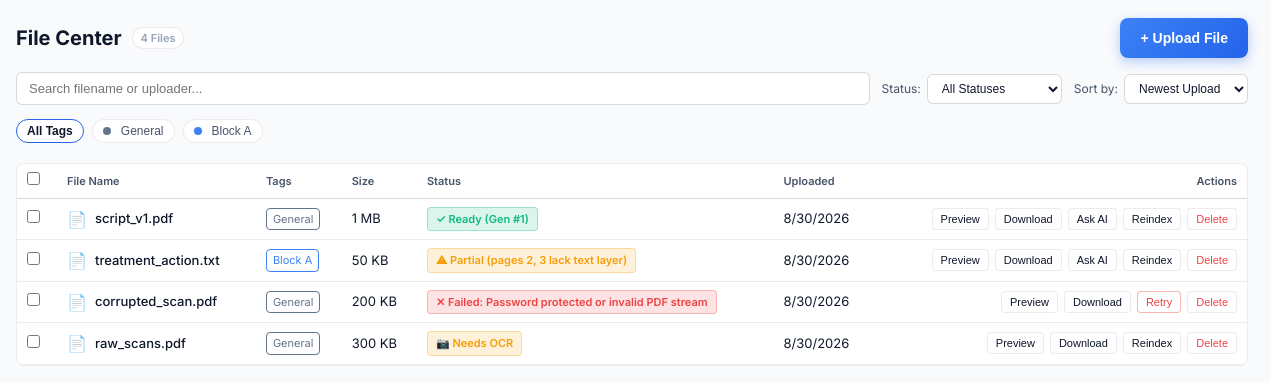
FileCenter & Runs Components (Contract Aligned) › filters files by search keyword
The width and height of the screenshot is (1271, 383).
Type "action" into the field with placeholder "Search filename or uploader..." at (443, 88), box [16,72,870,105]
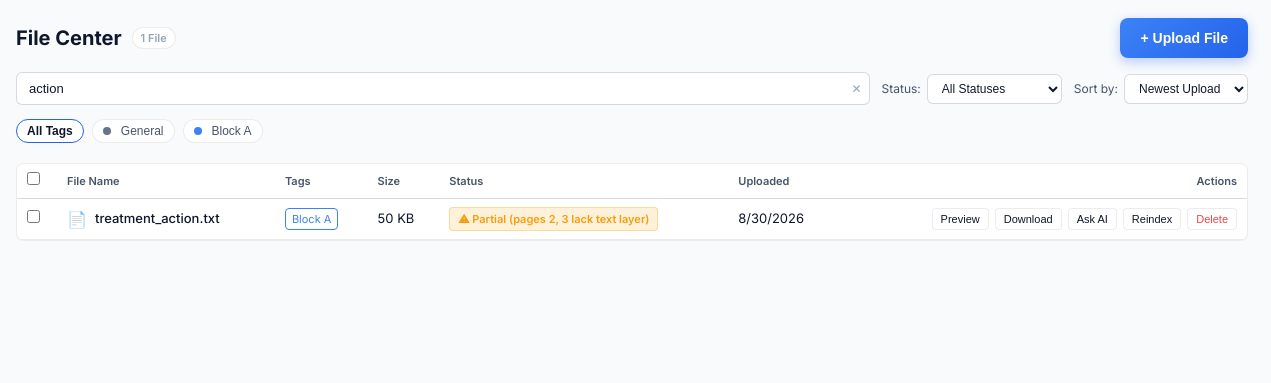
Expected: the text "treatment_action.txt" is shown, [95,209,220,228]
Expected: the text "script_v1.pdf" is gone
Expected: the text "corrupted_scan.pdf" is gone
